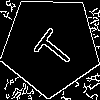T: (25, 20, 78, 73)
